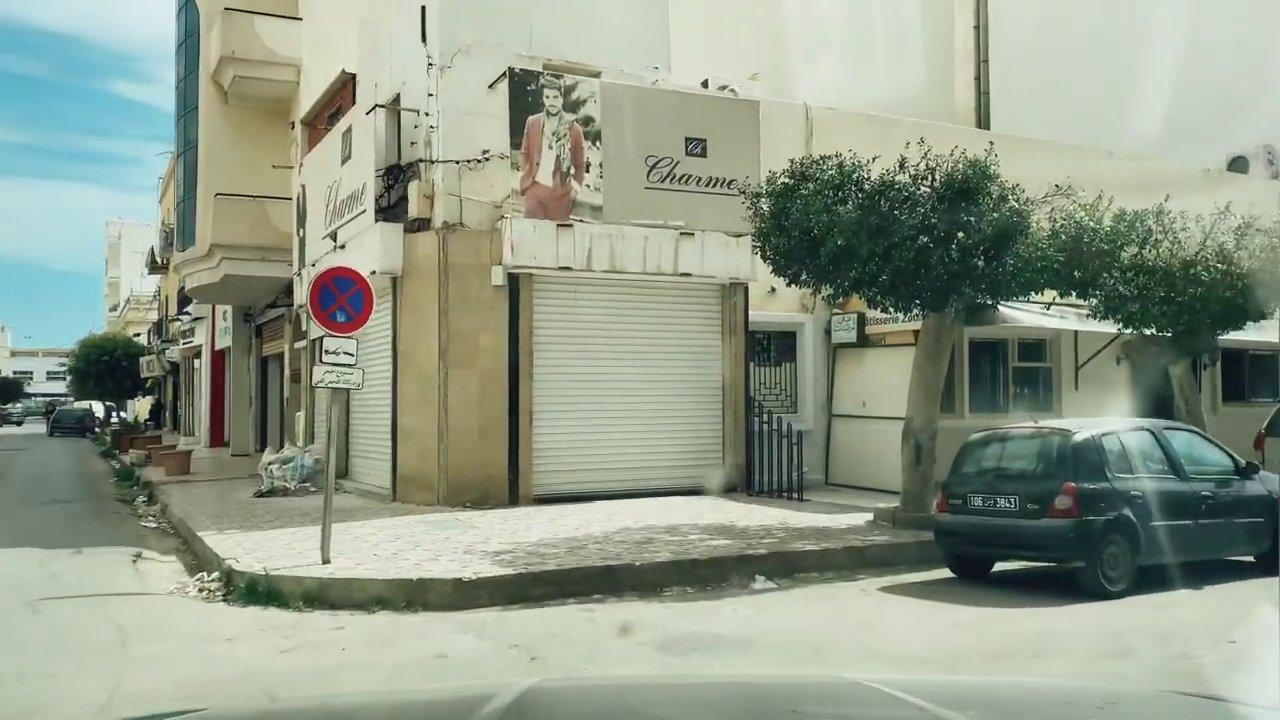no stopping: (304, 263, 375, 337)
